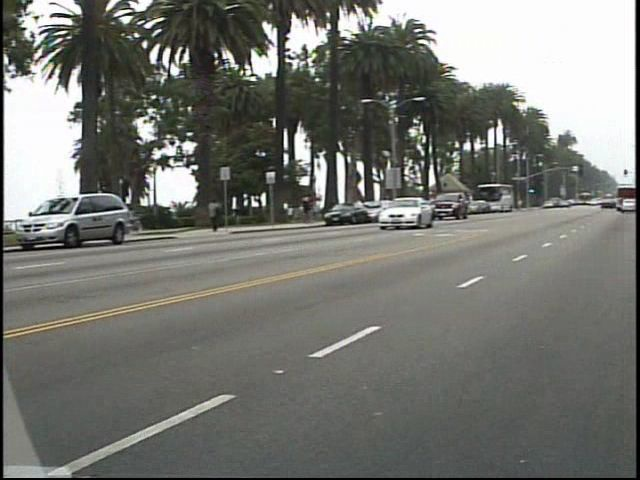person: (212, 193, 233, 232), (306, 189, 325, 224)
